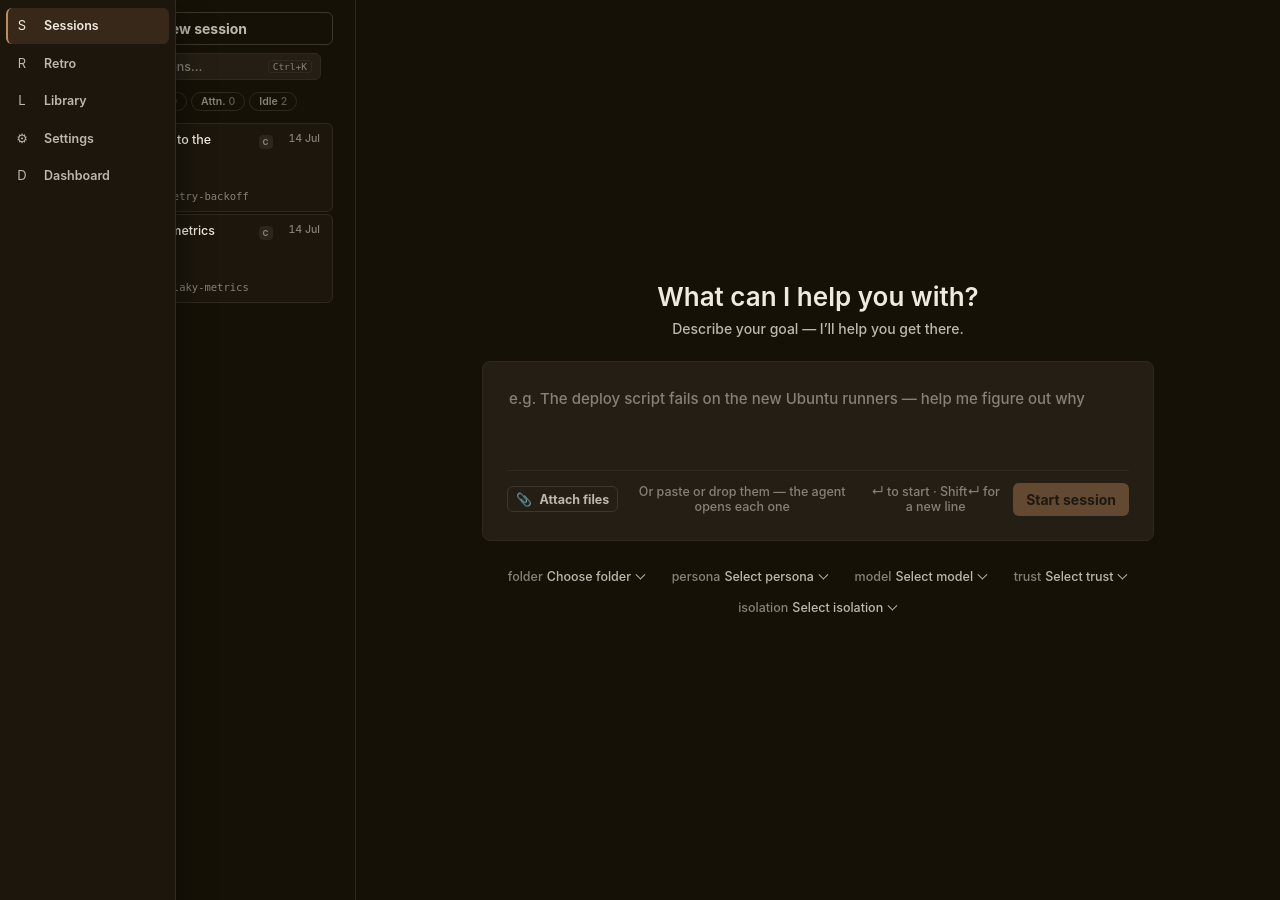
Test case: App command palette (W6.11) › Ctrl+` toggles the Shell dock while a session workspace is open
Expected: the text "Add retry backoff to the ingest worker" is shown, [69,132,211,164]
Press P
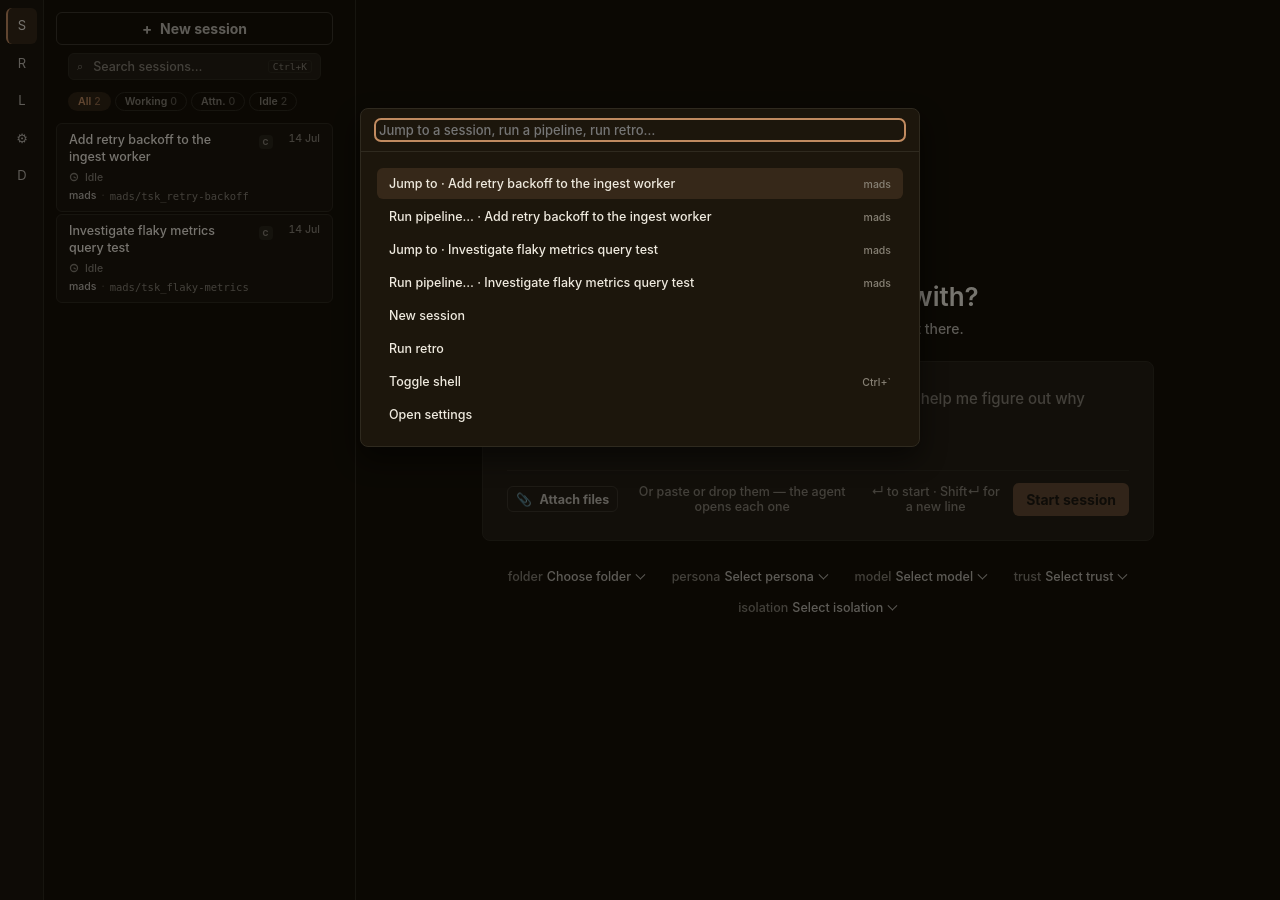
Click the button with test id "jump:session-active" at (640, 184), box [377,168,903,199]
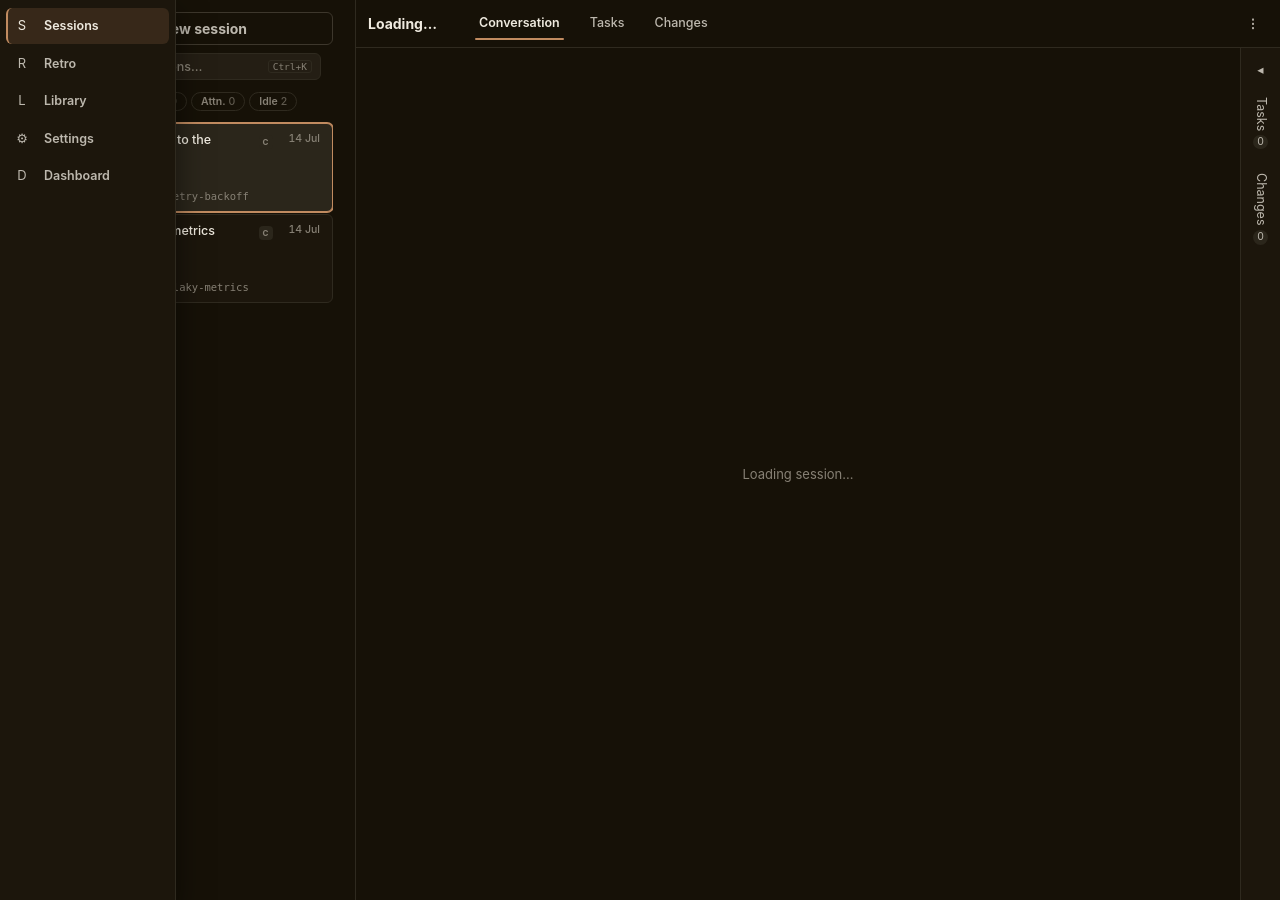
Expected: the text "Shell requires the Electron shell" is not shown
Press `
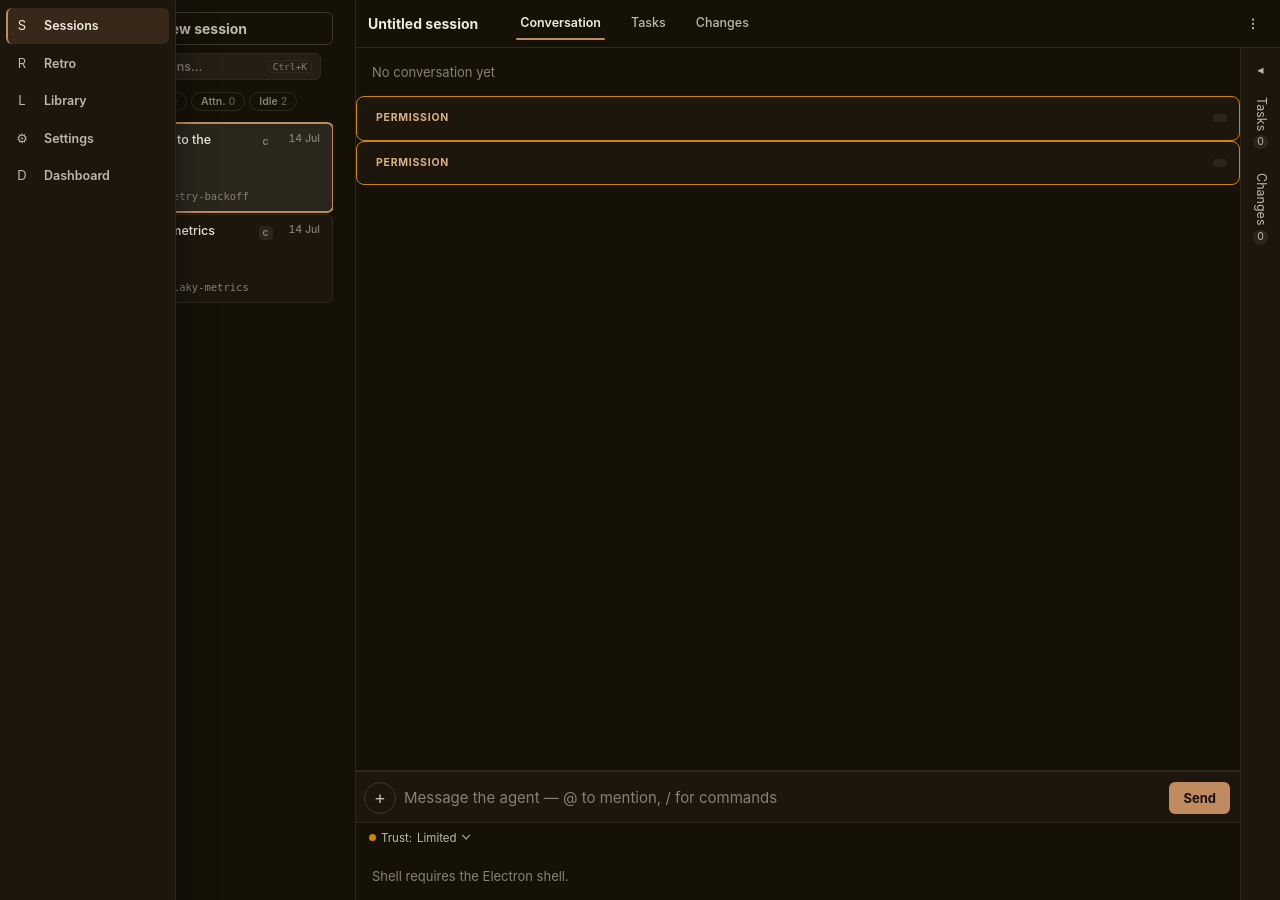
Result: the text "Shell requires the Electron shell." is shown at [372,868,569,884]
Press `
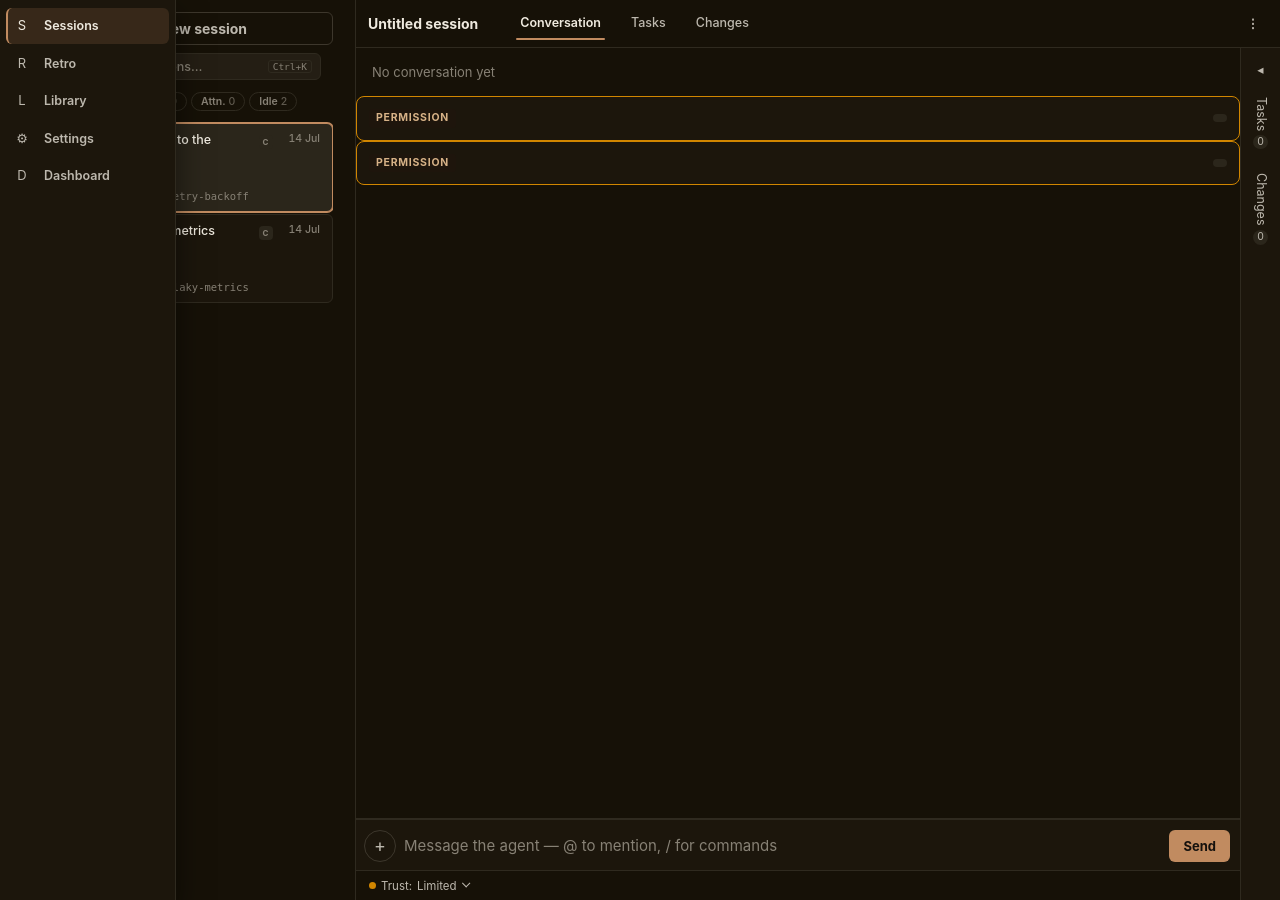
Result: the text "Shell requires the Electron shell" is gone
